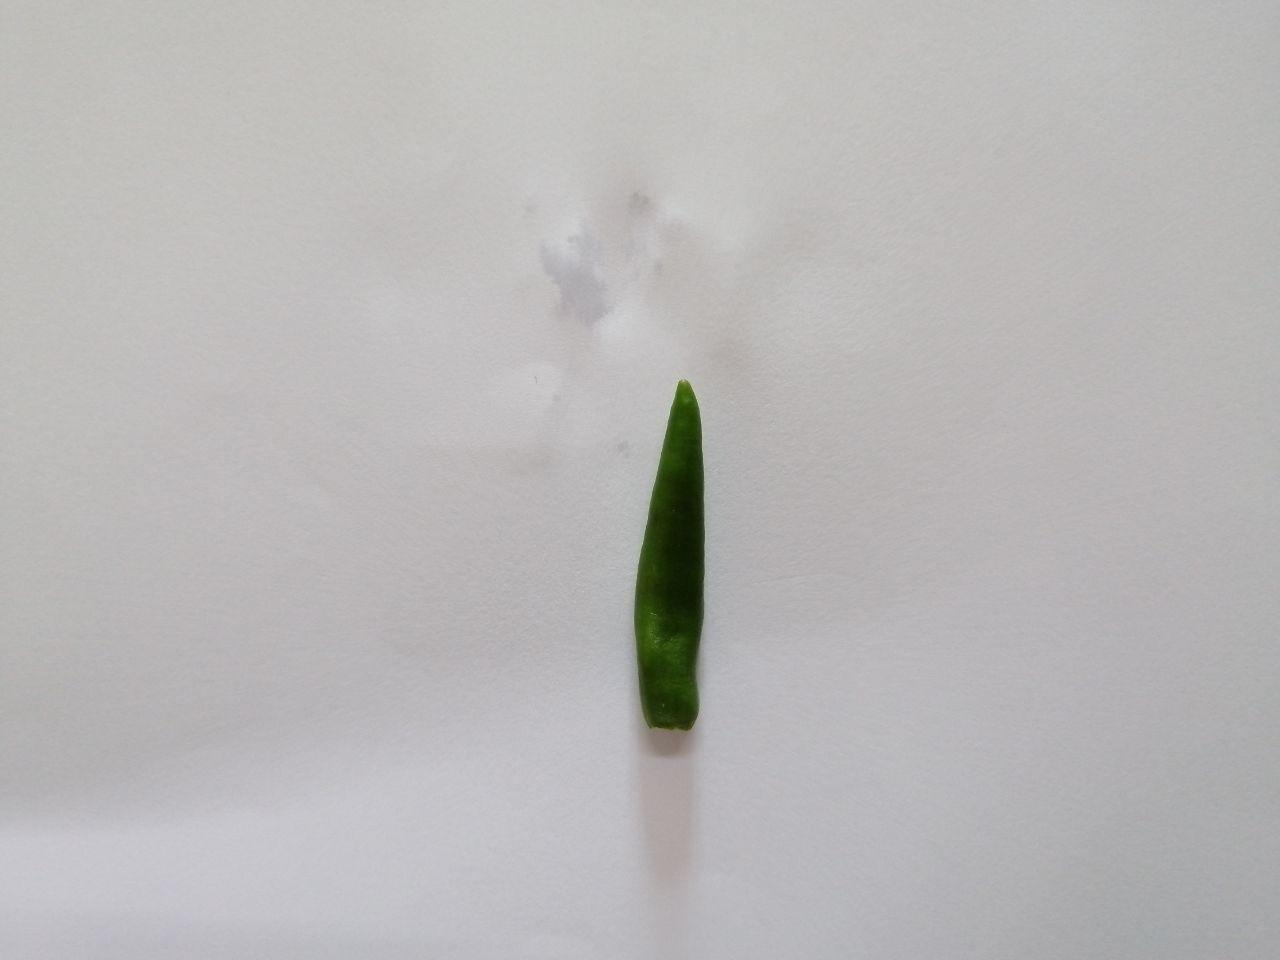lada hijau: (618, 356, 752, 761)
